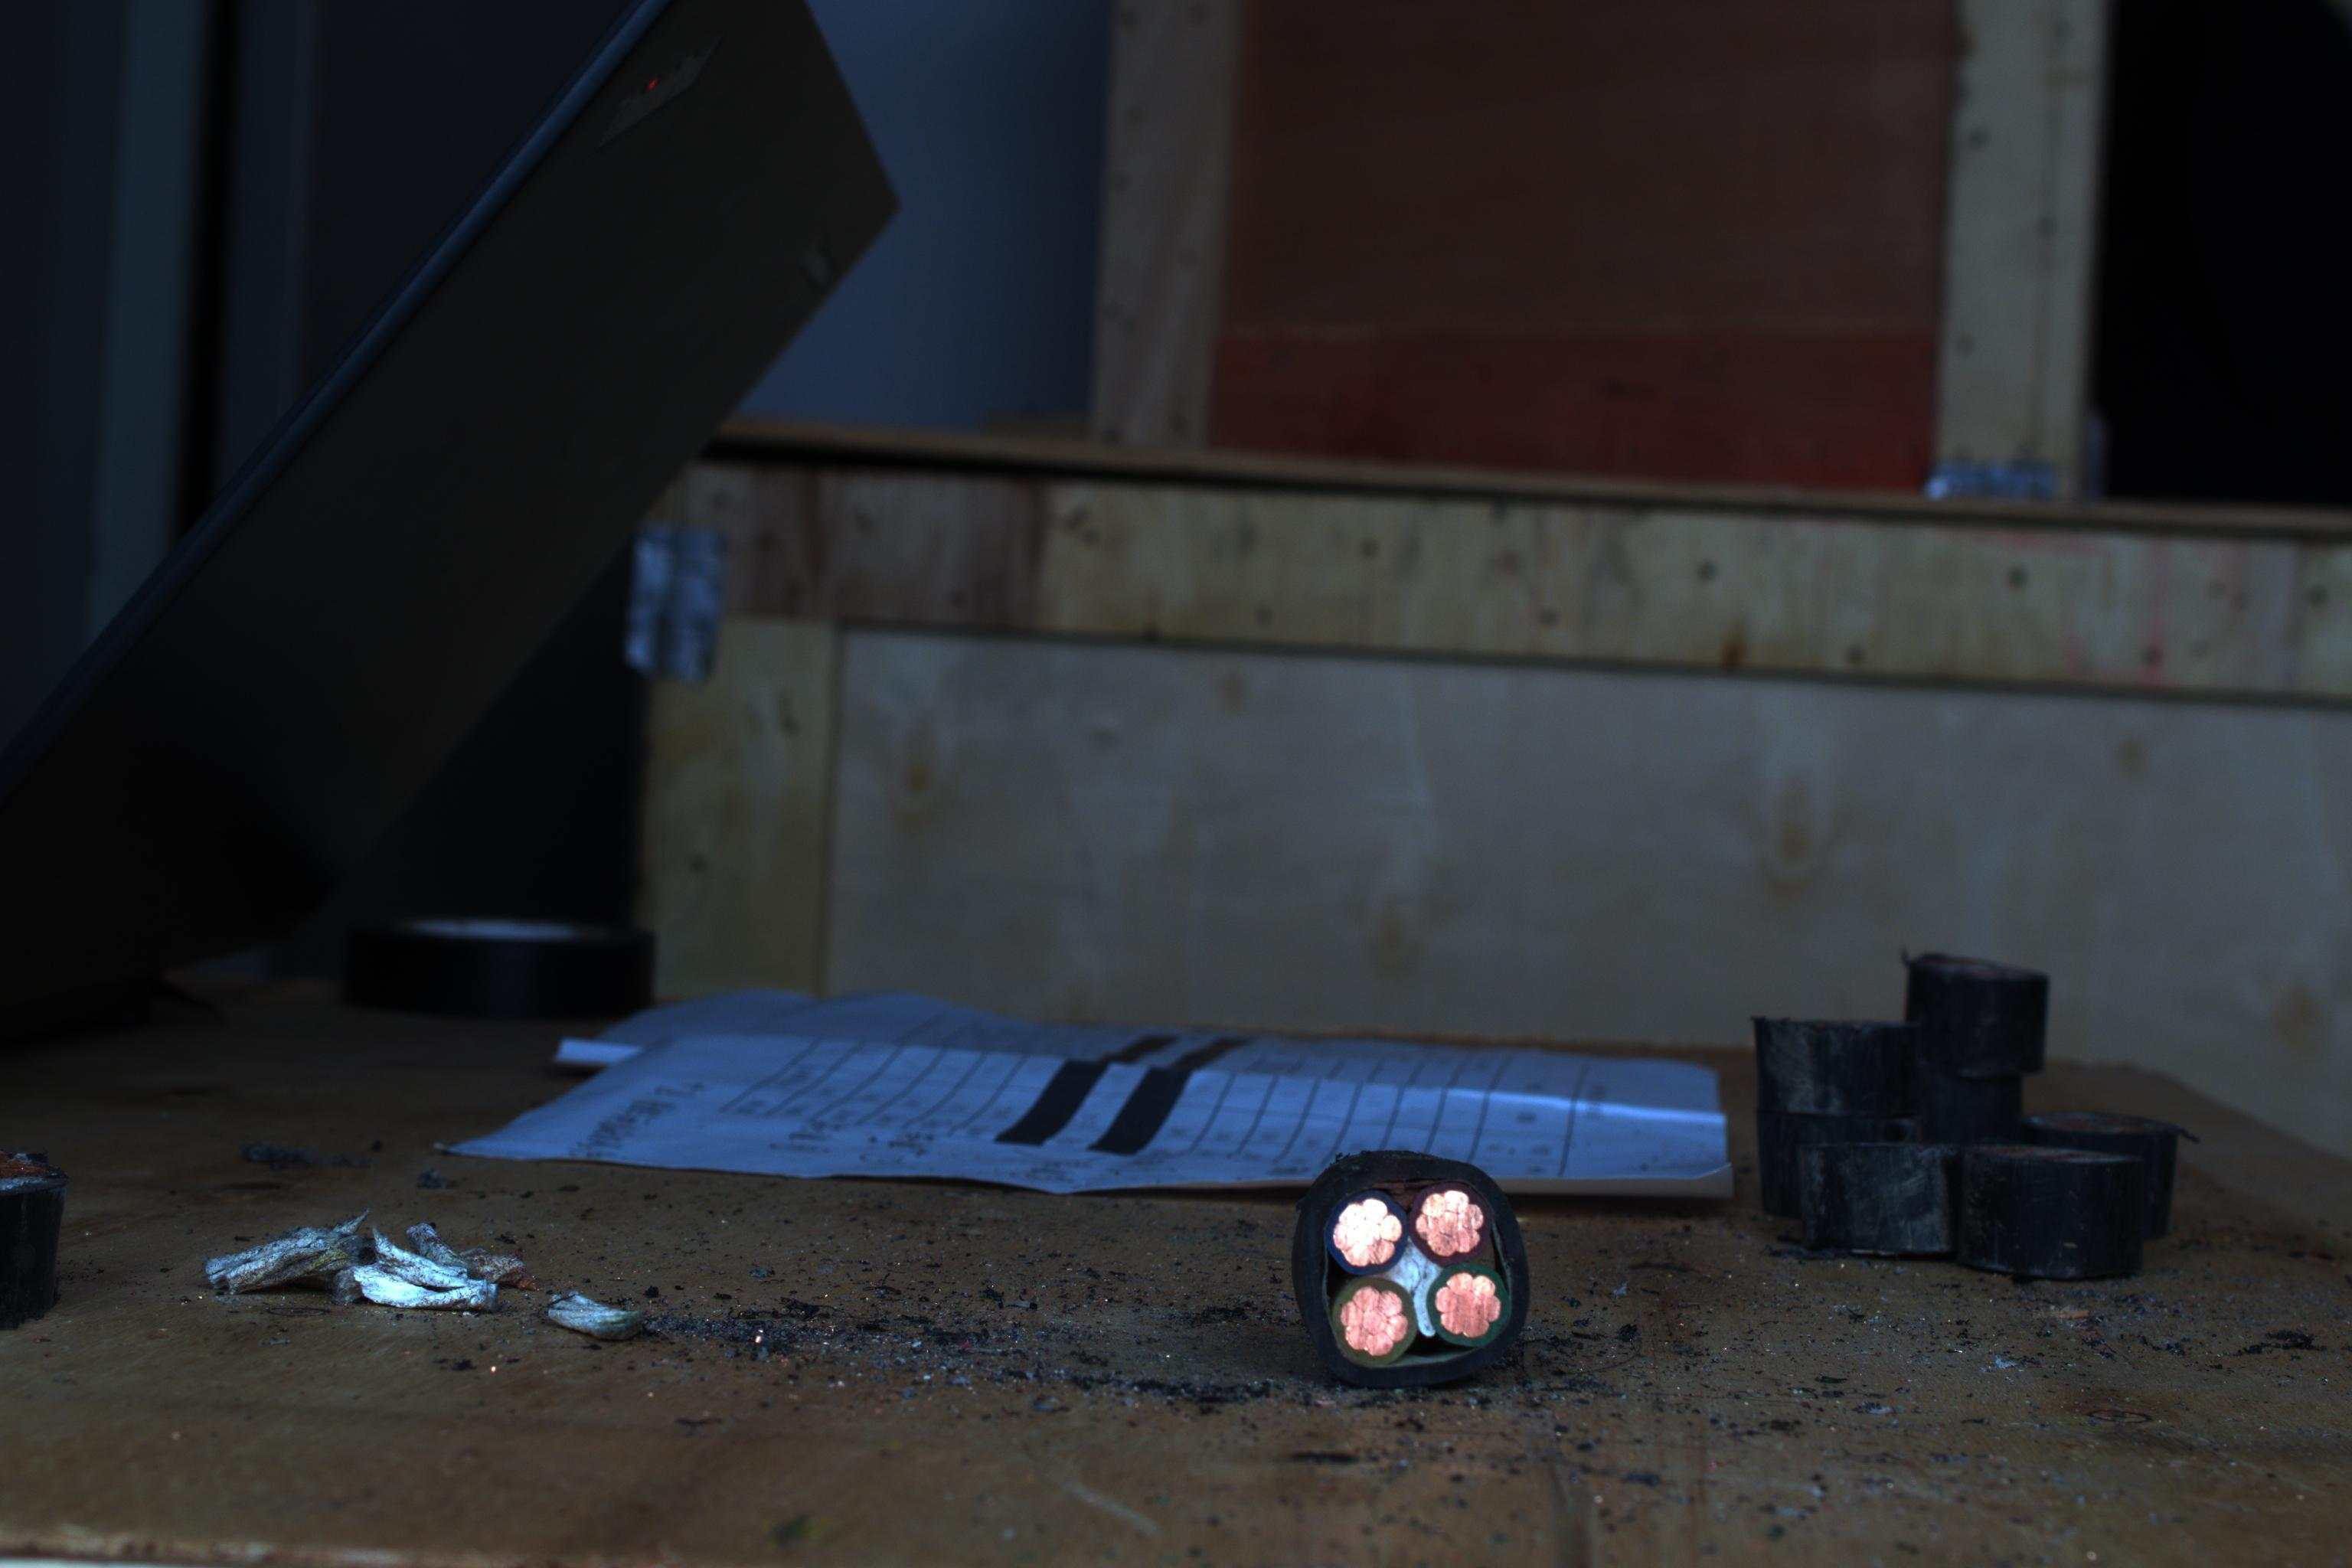YJV_0.6_1kV_4x35: (1295, 1148, 1564, 1398)
